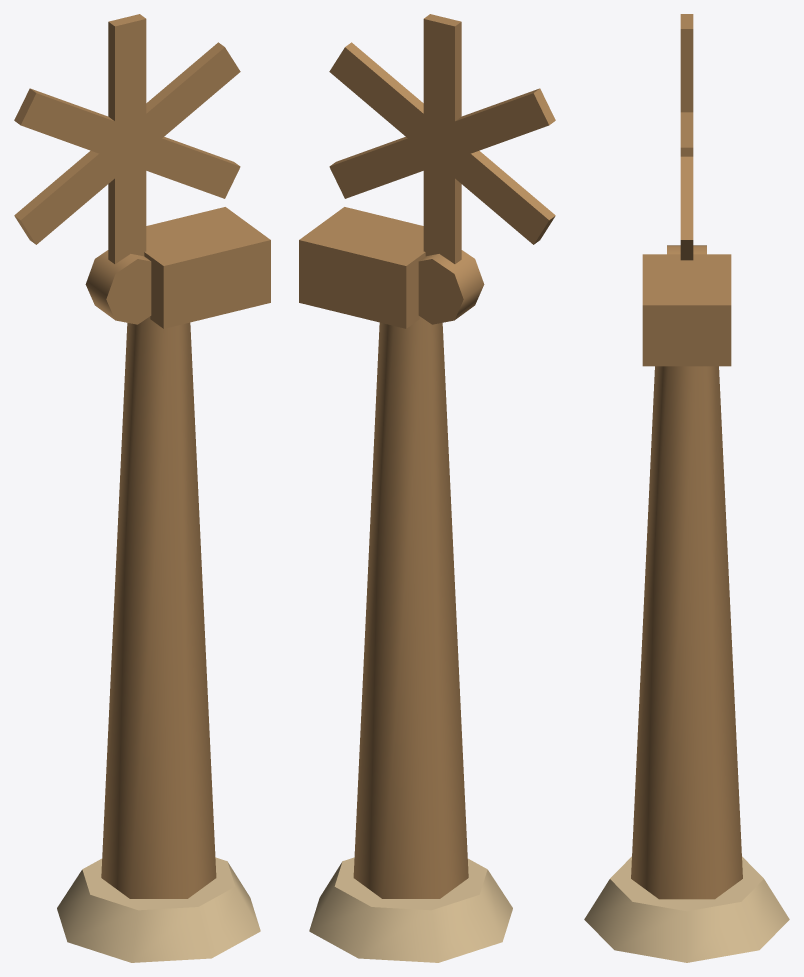
Rendered from wind-turbine.source.glb.
The picture shows the model from 3 angles, left to right: view 1: azimuth 30°, elevation 25°; view 2: azimuth 150°, elevation 25°; view 3: azimuth 270°, elevation 25°; orthographic projection. The views are drawn at different scales.
Parts seen in each view (by area): view 1: wind-turbine-mast-mesh, wind-turbine-concrete-base-mesh, wind-turbine-generator-body-mesh, wind-turbine-blade-1-mesh, wind-turbine-blade-0-mesh, wind-turbine-blade-2-mesh, wind-turbine-hub-mesh; view 2: wind-turbine-mast-mesh, wind-turbine-concrete-base-mesh, wind-turbine-generator-body-mesh, wind-turbine-blade-1-mesh, wind-turbine-blade-0-mesh, wind-turbine-blade-2-mesh, wind-turbine-hub-mesh; view 3: wind-turbine-mast-mesh, wind-turbine-concrete-base-mesh, wind-turbine-generator-body-mesh, wind-turbine-blade-2-mesh, wind-turbine-blade-0-mesh, wind-turbine-blade-1-mesh.
Part boxes in pixels (x1,y1,x2,y2): wind-turbine-mast-mesh: [101, 316, 216, 898]; wind-turbine-concrete-base-mesh: [57, 857, 260, 962]; wind-turbine-generator-body-mesh: [144, 207, 270, 328]; wind-turbine-blade-1-mesh: [14, 42, 240, 244]; wind-turbine-blade-0-mesh: [108, 14, 146, 263]; wind-turbine-blade-2-mesh: [14, 88, 240, 198]; wind-turbine-hub-mesh: [85, 250, 151, 324]; wind-turbine-mast-mesh: [353, 316, 468, 898]; wind-turbine-concrete-base-mesh: [309, 857, 512, 962]; wind-turbine-generator-body-mesh: [299, 207, 425, 328]; wind-turbine-blade-1-mesh: [329, 42, 555, 244]; wind-turbine-blade-0-mesh: [423, 14, 461, 263]; wind-turbine-blade-2-mesh: [329, 88, 555, 198]; wind-turbine-hub-mesh: [418, 250, 484, 324]; wind-turbine-mast-mesh: [631, 366, 742, 899]; wind-turbine-concrete-base-mesh: [584, 856, 789, 962]; wind-turbine-generator-body-mesh: [642, 254, 731, 366]; wind-turbine-blade-2-mesh: [680, 156, 693, 260]; wind-turbine-blade-0-mesh: [680, 14, 693, 112]; wind-turbine-blade-1-mesh: [680, 112, 693, 156].
Bounding box in the file's own units: 1.63 × 6.06 × 1.28.
